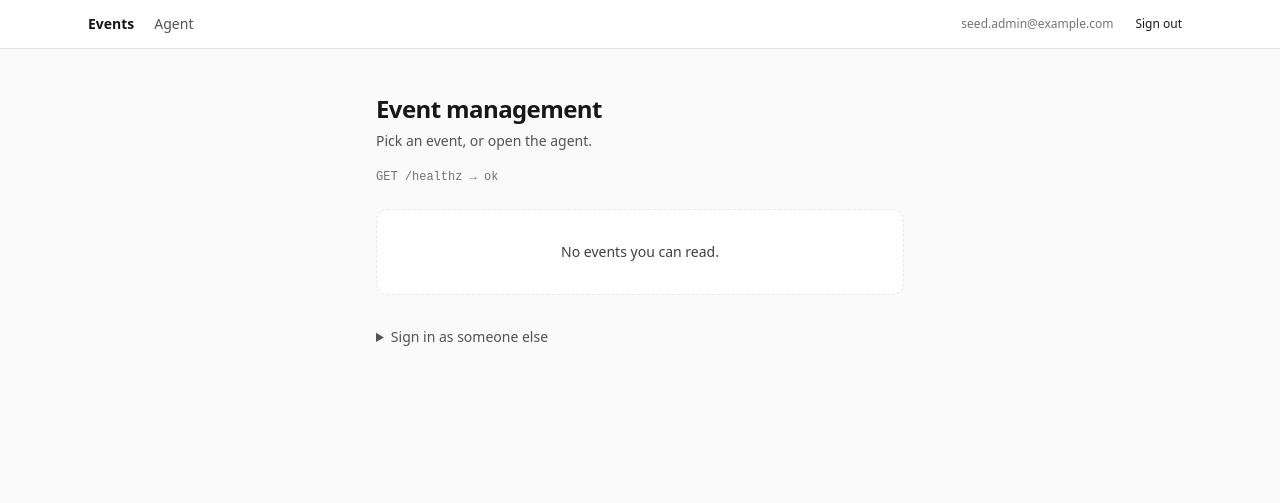
auth session › posts sign-out, clears the current-user query, and returns to sign-in
The image size is (1280, 503).
What coordinates should you click on to do the following:
click the button "Sign out"
I would click on:
 (1159, 24)
Its box is [1125, 8, 1192, 40].
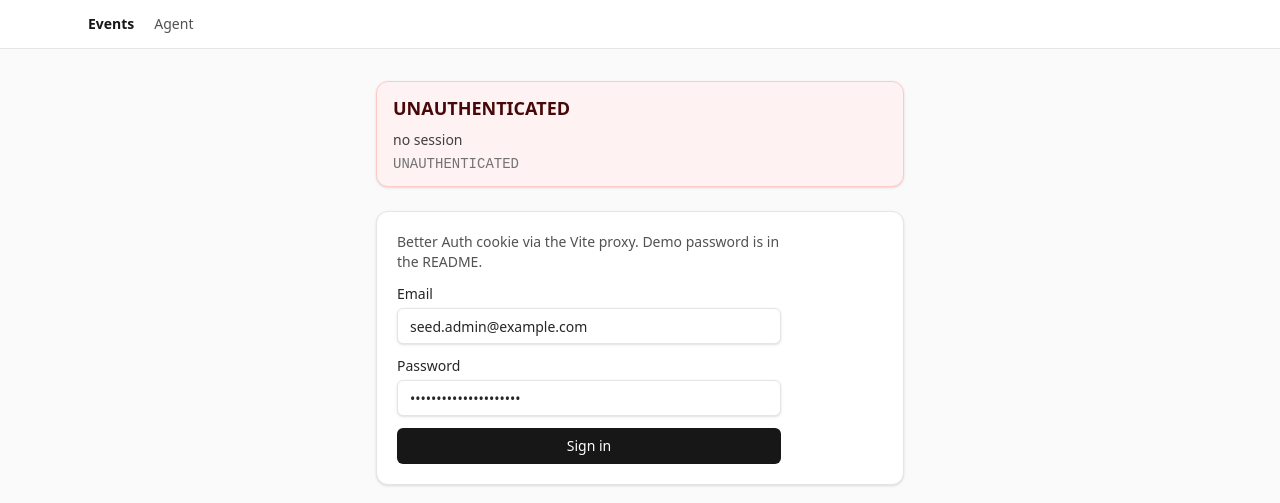
Now the button "Sign out" is gone
Now the heading "UNAUTHENTICATED" is shown, box [393, 96, 570, 120]
Now the button "Sign in" is shown, box [397, 428, 781, 464]
